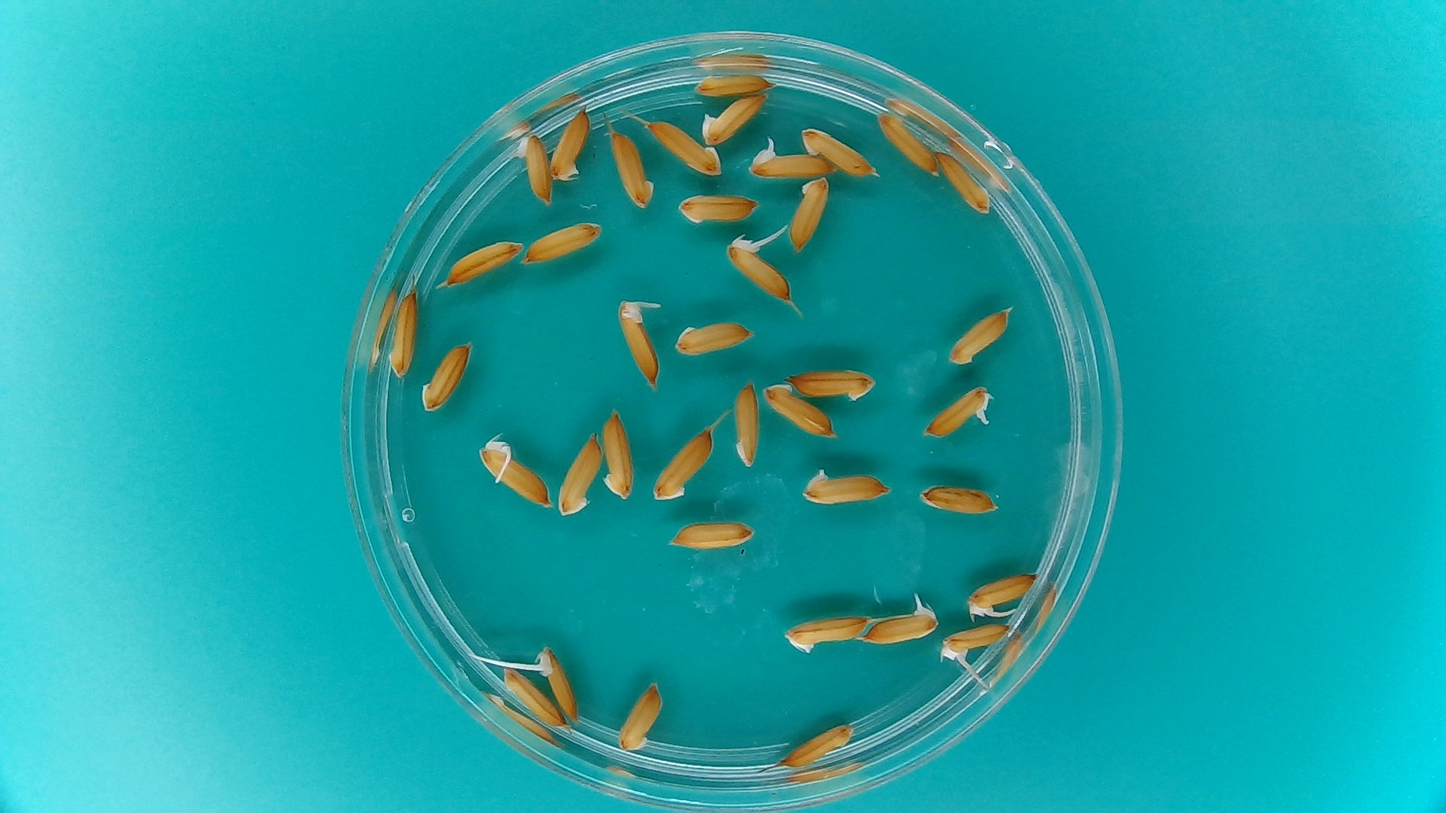no: (651, 421, 715, 503), (643, 116, 722, 178), (760, 379, 839, 440), (499, 663, 569, 731), (873, 105, 939, 177), (438, 234, 525, 288), (944, 302, 1014, 367), (799, 124, 879, 179), (519, 216, 605, 266), (554, 428, 602, 517), (420, 336, 474, 415), (608, 125, 657, 211), (933, 146, 993, 215), (697, 89, 770, 145), (670, 314, 756, 361), (505, 129, 554, 209), (776, 720, 856, 769), (782, 612, 871, 656), (786, 174, 831, 256), (784, 363, 878, 402), (615, 679, 664, 753), (385, 285, 420, 382), (599, 406, 635, 500), (548, 107, 593, 182), (667, 516, 758, 552), (676, 190, 761, 227), (917, 480, 1000, 516), (731, 377, 761, 468), (691, 71, 772, 98)
yes: (474, 435, 554, 510), (725, 233, 798, 303), (614, 296, 667, 390), (744, 129, 841, 180), (920, 383, 996, 440), (862, 593, 940, 646), (801, 462, 892, 506), (964, 568, 1040, 620), (938, 620, 1015, 668), (536, 642, 578, 724)
